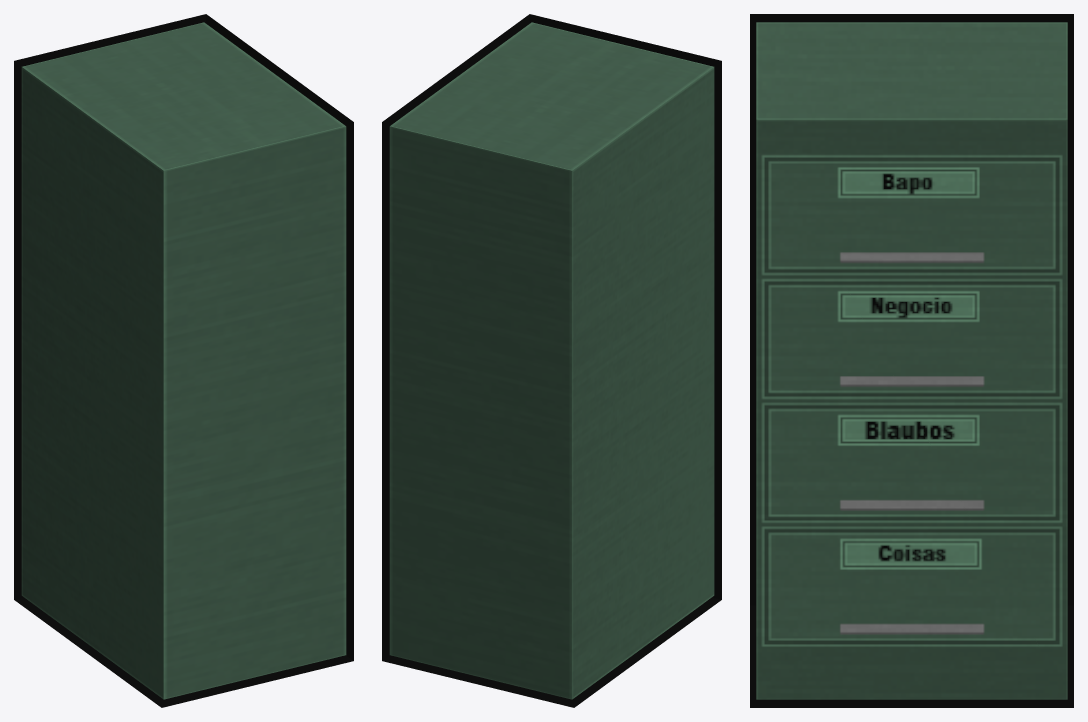
File: Arquivo de aço.glb
The picture shows the model from 3 angles, left to right: view 1: azimuth 30°, elevation 25°; view 2: azimuth 150°, elevation 25°; view 3: azimuth 270°, elevation 25°; orthographic projection. The views are drawn at different scales.
Parts seen in each view (by area): view 1: Armario; view 2: Armario; view 3: Armario.
Part boxes in pixels (x1,y1,x2,y2): Armario: (14, 14, 353, 707); Armario: (382, 14, 721, 707); Armario: (750, 14, 1073, 707).
Bounding box in the file's own units: 0.5711 × 1.53 × 0.7603.
2 materials, 1 textured.
